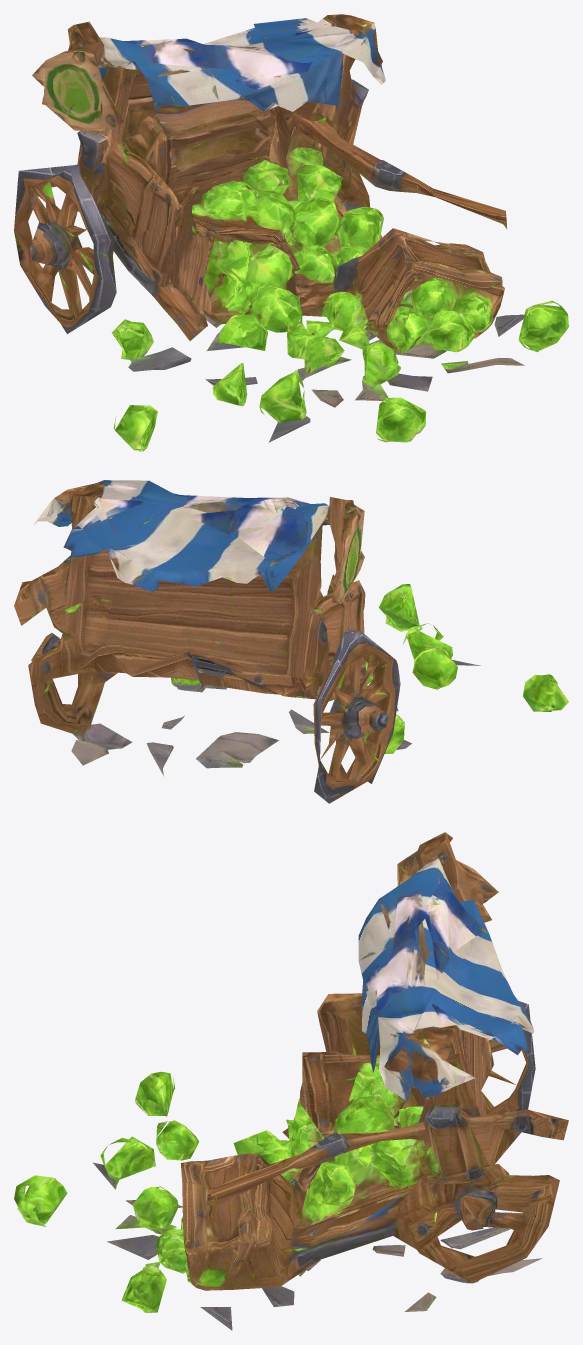
The model's file is cabbage_cart.glb.
3 renders of one model, top to bottom at view 1: azimuth 30°, elevation 25°; view 2: azimuth 150°, elevation 25°; view 3: azimuth 270°, elevation 25°, orthographic. The views are drawn at different scales.
Bounding box in the file's own units: 1.8 × 1.2 × 1.86.
1 material, 1 textured.
